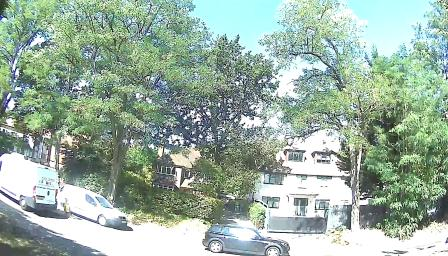Cars: (59, 179, 130, 233), (202, 214, 293, 256), (2, 147, 61, 211)
